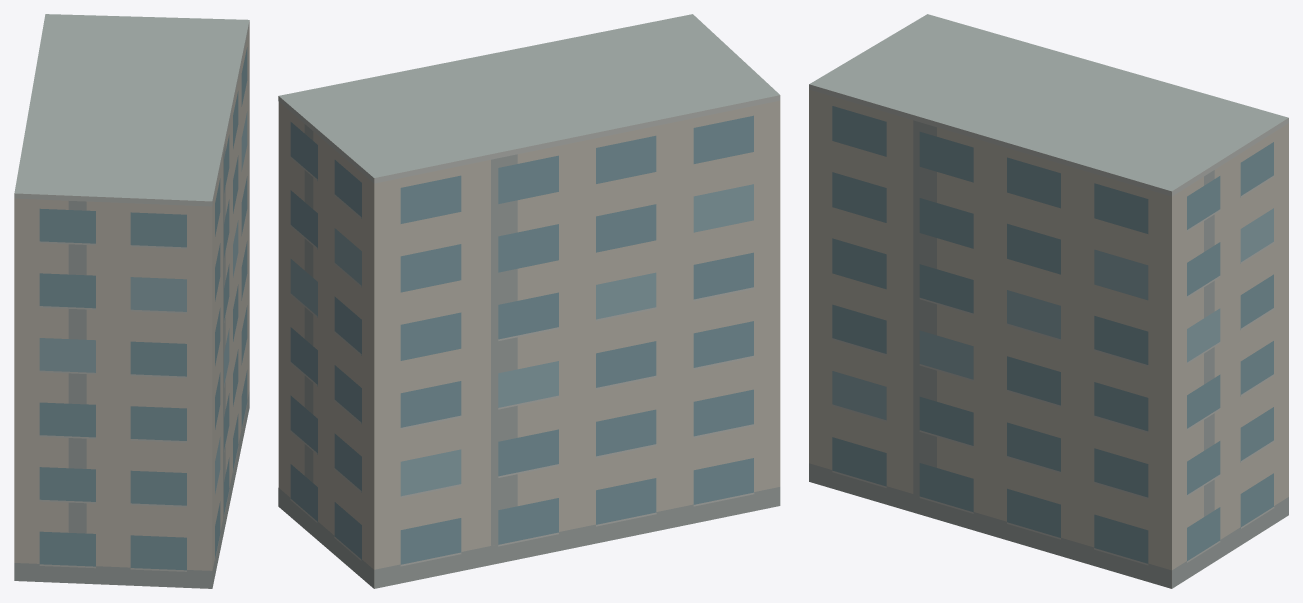
The model's file is survey-upis-33000687.glb.
3 renders of one model, left to right at view 1: azimuth 30°, elevation 25°; view 2: azimuth 150°, elevation 25°; view 3: azimuth 270°, elevation 25°, orthographic. The views are drawn at different scales.
Parts seen in each view (by area): view 1: survey-upis-33000687.tmp; view 2: survey-upis-33000687.tmp; view 3: survey-upis-33000687.tmp.
Part boxes in pixels (left/top/right/bottom): survey-upis-33000687.tmp: left=14, top=14, right=249, bottom=588; survey-upis-33000687.tmp: left=278, top=14, right=780, bottom=588; survey-upis-33000687.tmp: left=809, top=14, right=1288, bottom=588.
Bounding box in the file's own units: 17.52 × 18.3 × 20.02.
